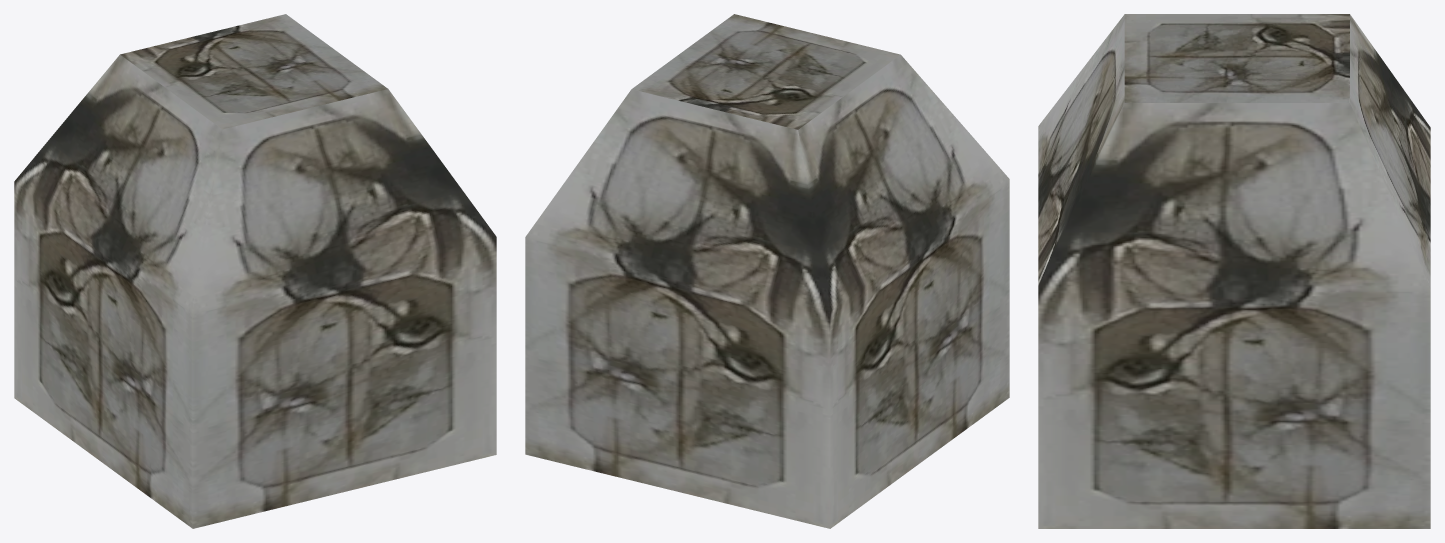
The model's file is l_lightpost_dam_hdtex.glb.
3 renders of one model, left to right at view 1: azimuth 30°, elevation 25°; view 2: azimuth 150°, elevation 25°; view 3: azimuth 270°, elevation 25°, orthographic. The views are drawn at different scales.
Parts seen in each view (by area): view 1: L_LightWallDAM; view 2: L_LightWallDAM; view 3: L_LightWallDAM.
Part boxes in pixels (box(x1,y1,x2,y2)): L_LightWallDAM: box(14, 14, 496, 528); L_LightWallDAM: box(525, 14, 1009, 528); L_LightWallDAM: box(1038, 14, 1430, 528).
Size of the model in its own units: 4.16 by 4.63 by 4.24.
1 material, 1 textured.
